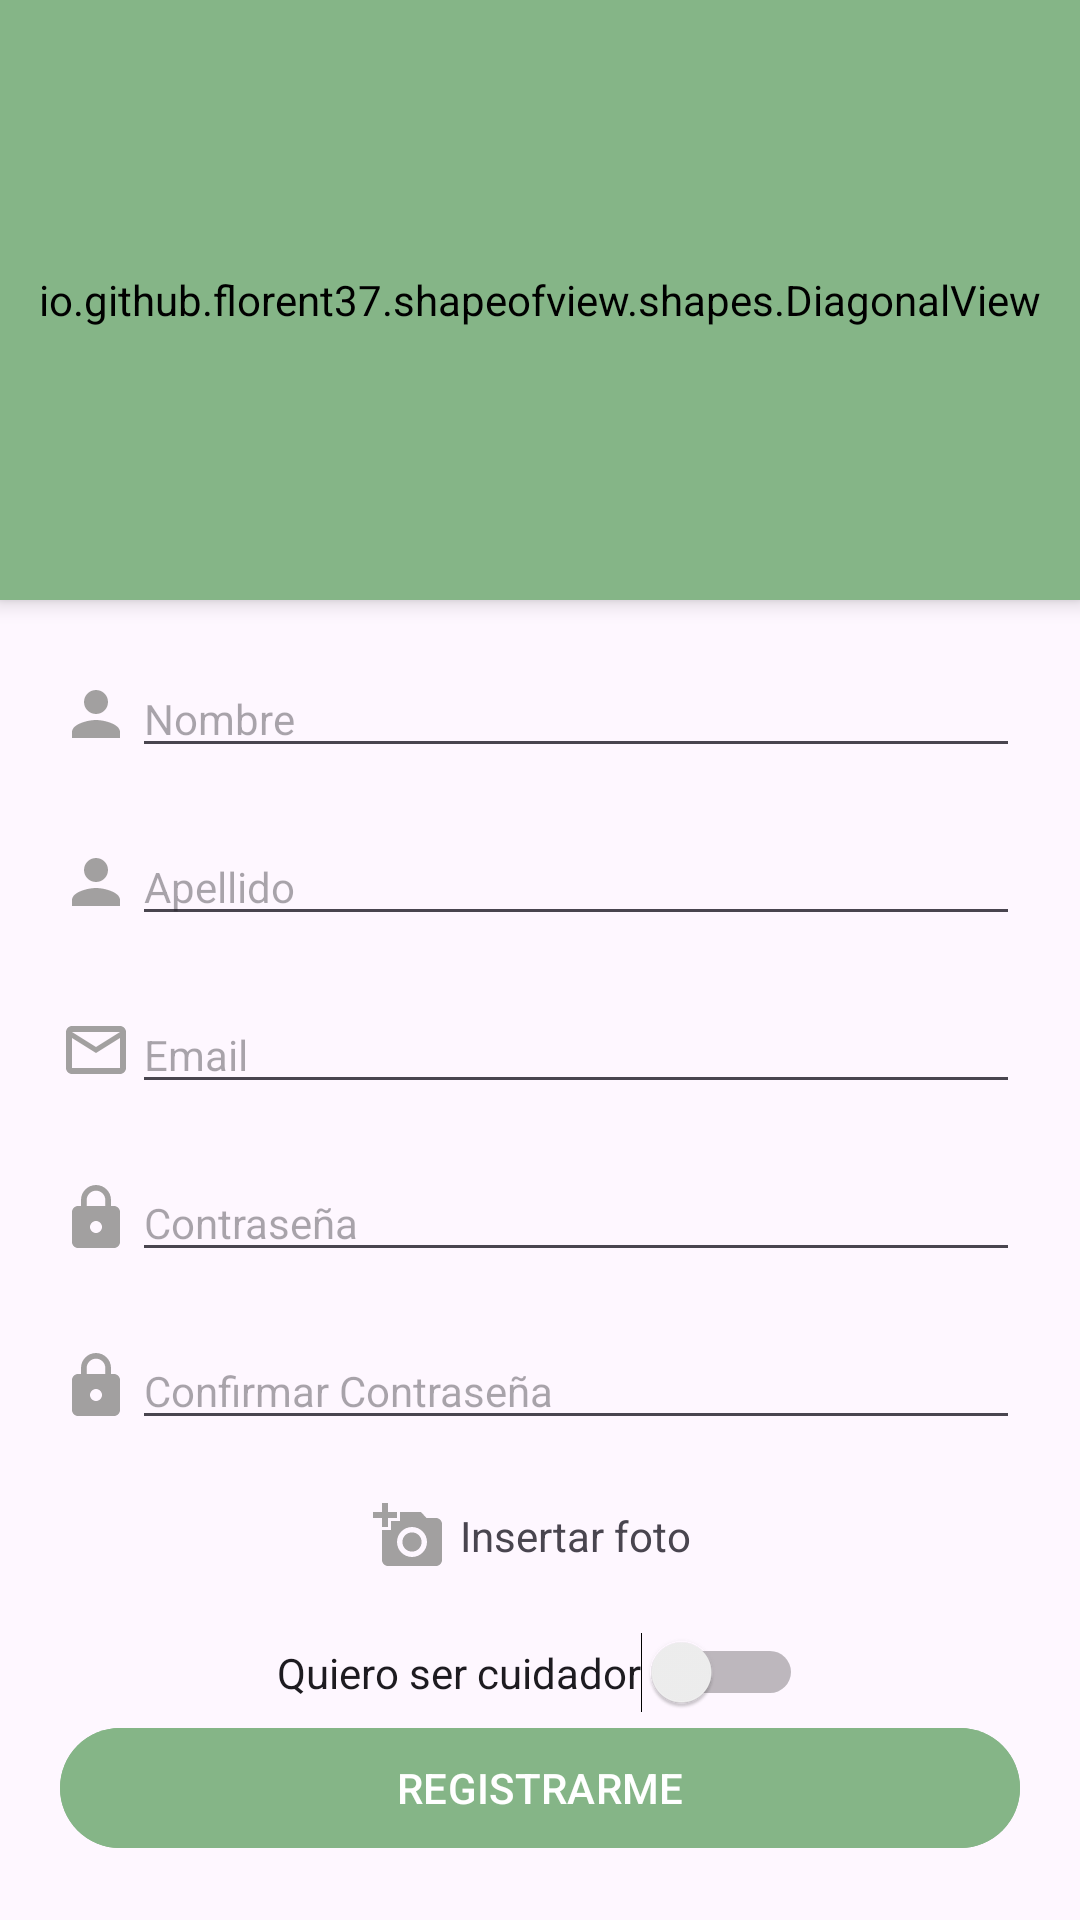

Where to tap for icons on this 1080px x 1920px app screen, as point (x, y):
add photo: point (407, 1534)
password: point (96, 1216), point (96, 1384)
person: point (96, 714), point (96, 882)
